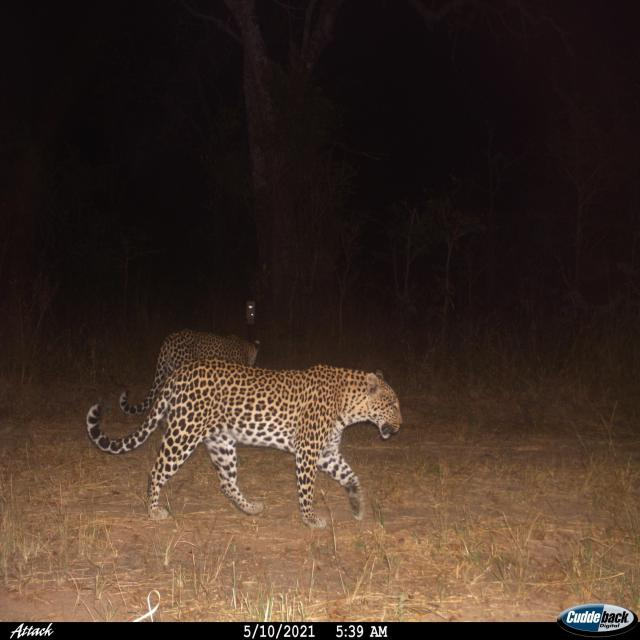Leopard: (84, 357, 403, 529)
